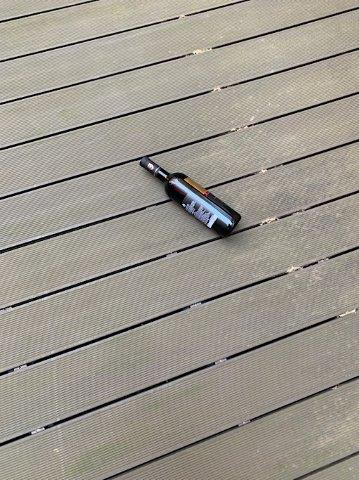botolkaca: (137, 157, 241, 237)
